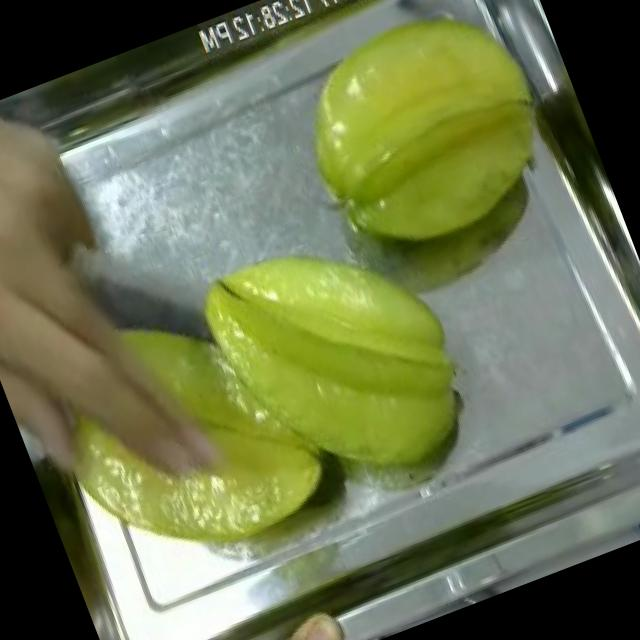fruit: (3, 241, 383, 608), (153, 192, 504, 546), (262, 0, 587, 288), (0, 81, 162, 427), (212, 595, 358, 640)
